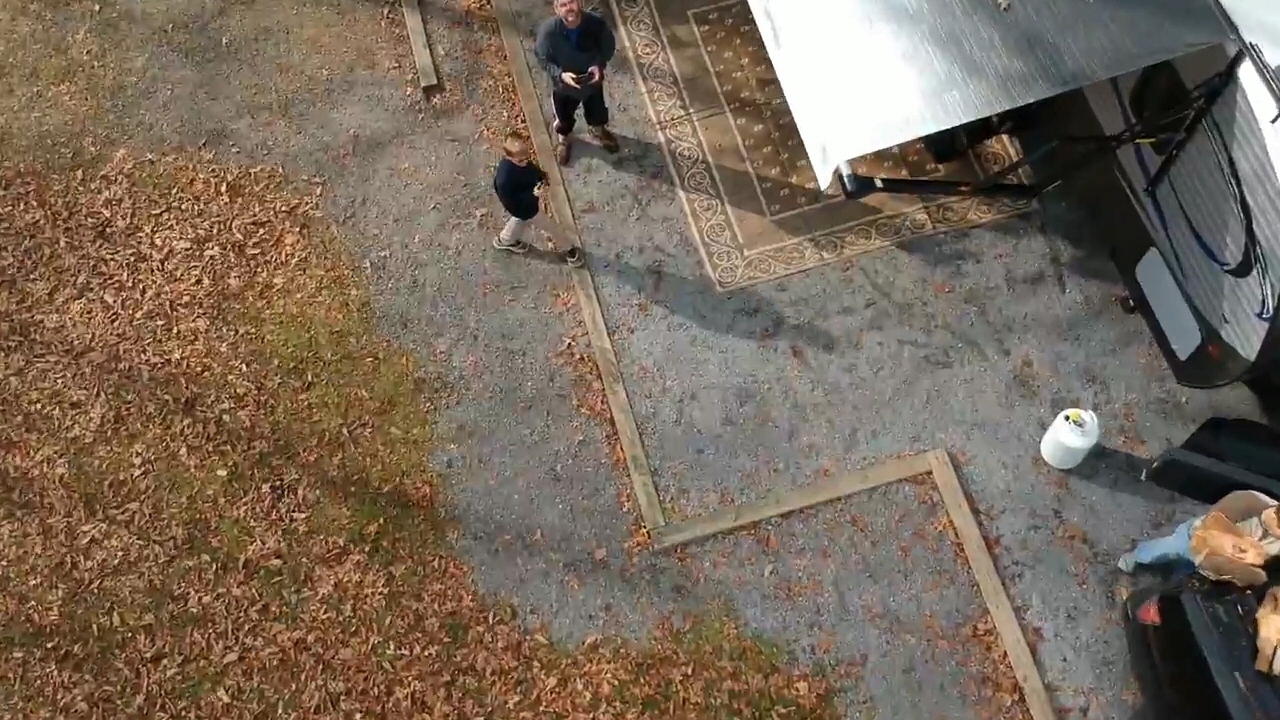insan: (485, 124, 589, 270), (534, 1, 627, 163)
